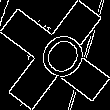O_SW: (23, 22, 87, 88)
